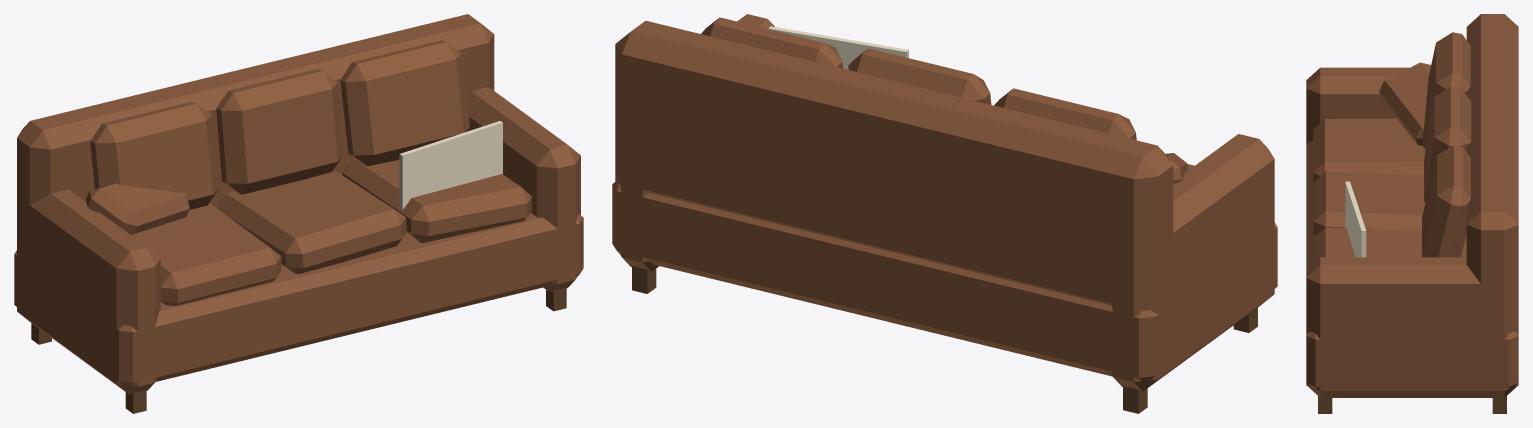
The model's file is couch.glb.
3 views of the same model, side by side, from view 1: azimuth 30°, elevation 25°; view 2: azimuth 150°, elevation 25°; view 3: azimuth 270°, elevation 25° (orthographic). The views are drawn at different scales.
Parts seen in each view (by area): view 1: couch; view 2: couch; view 3: couch.
Boxes of the visible parts, x1,y1,x2,y2 form: couch: (14, 14, 583, 413); couch: (612, 14, 1277, 413); couch: (1306, 14, 1518, 413).
Bounding box in the file's own units: 2.1 × 0.9794 × 0.9.
